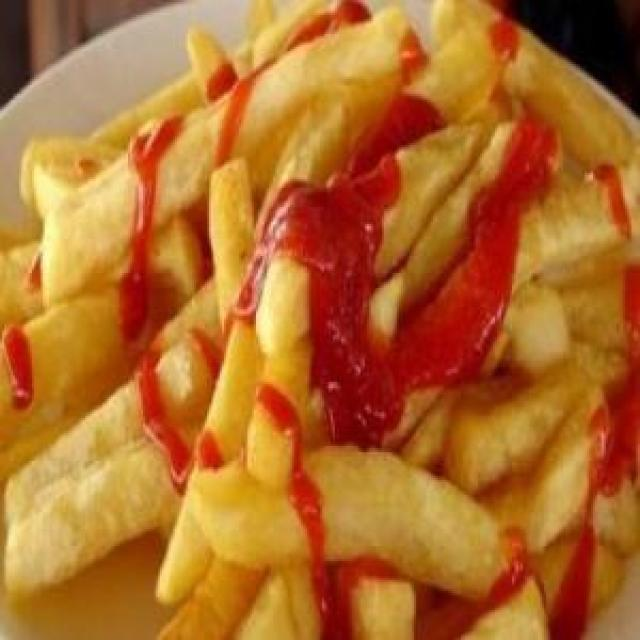French Fries: (0, 0, 640, 640), (29, 8, 436, 288), (190, 412, 548, 604), (0, 367, 226, 540)
